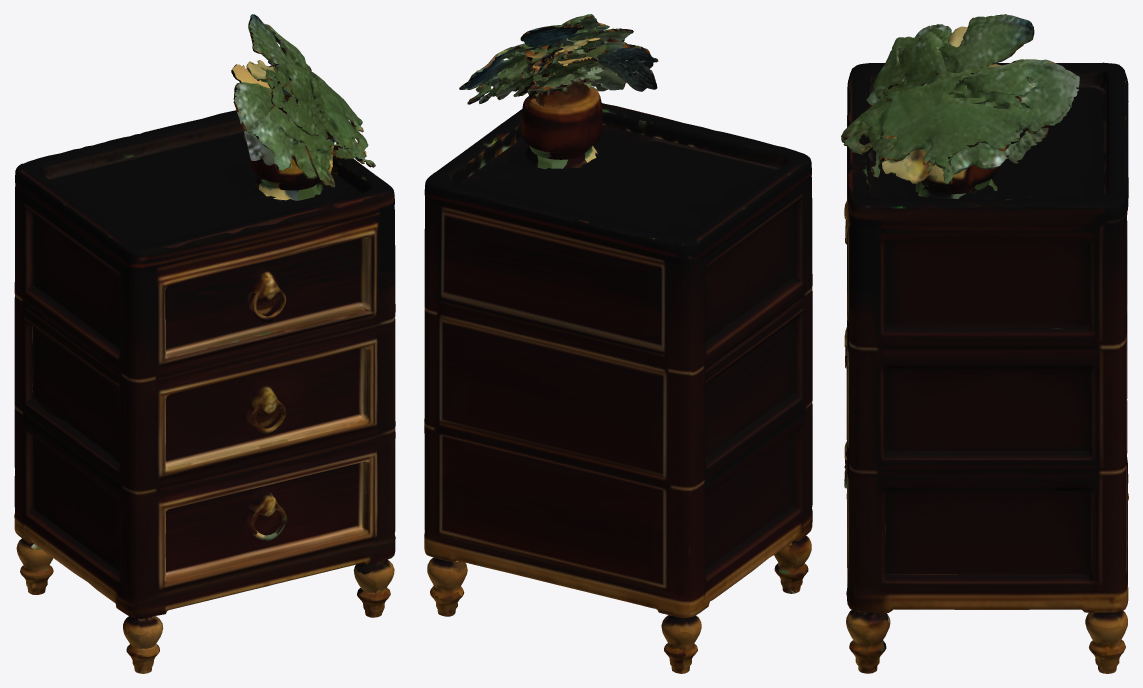
Rendered from vintage_charm_cabinet.glb.
3 renders of one model, left to right at view 1: azimuth 30°, elevation 25°; view 2: azimuth 150°, elevation 25°; view 3: azimuth 270°, elevation 25°, orthographic. The views are drawn at different scales.
Visible parts, largest first — view 1: tmpbml0whf_.ply_1; view 2: tmpbml0whf_.ply_1; view 3: tmpbml0whf_.ply_1.
Boxes of the visible parts, left/top/right/bottom form: tmpbml0whf_.ply_1: left=14, top=14, right=395, bottom=673; tmpbml0whf_.ply_1: left=424, top=14, right=812, bottom=673; tmpbml0whf_.ply_1: left=841, top=14, right=1128, bottom=673.
Size of the model in its own units: 1.01 by 1.99 by 0.8317.
1 material, 1 textured.
